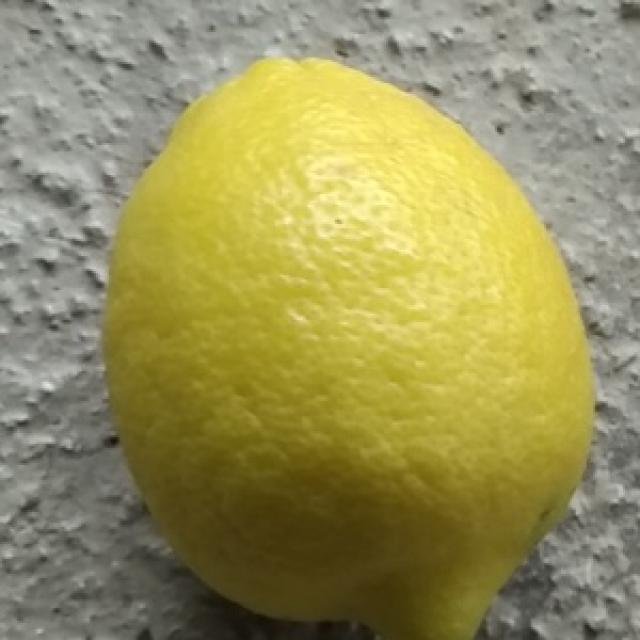Ripe: (103, 49, 602, 640)
